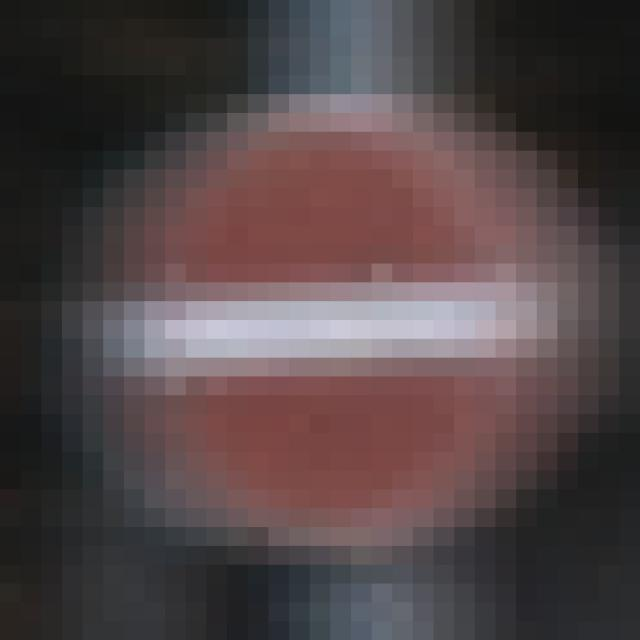No Entry: (104, 95, 538, 547)
